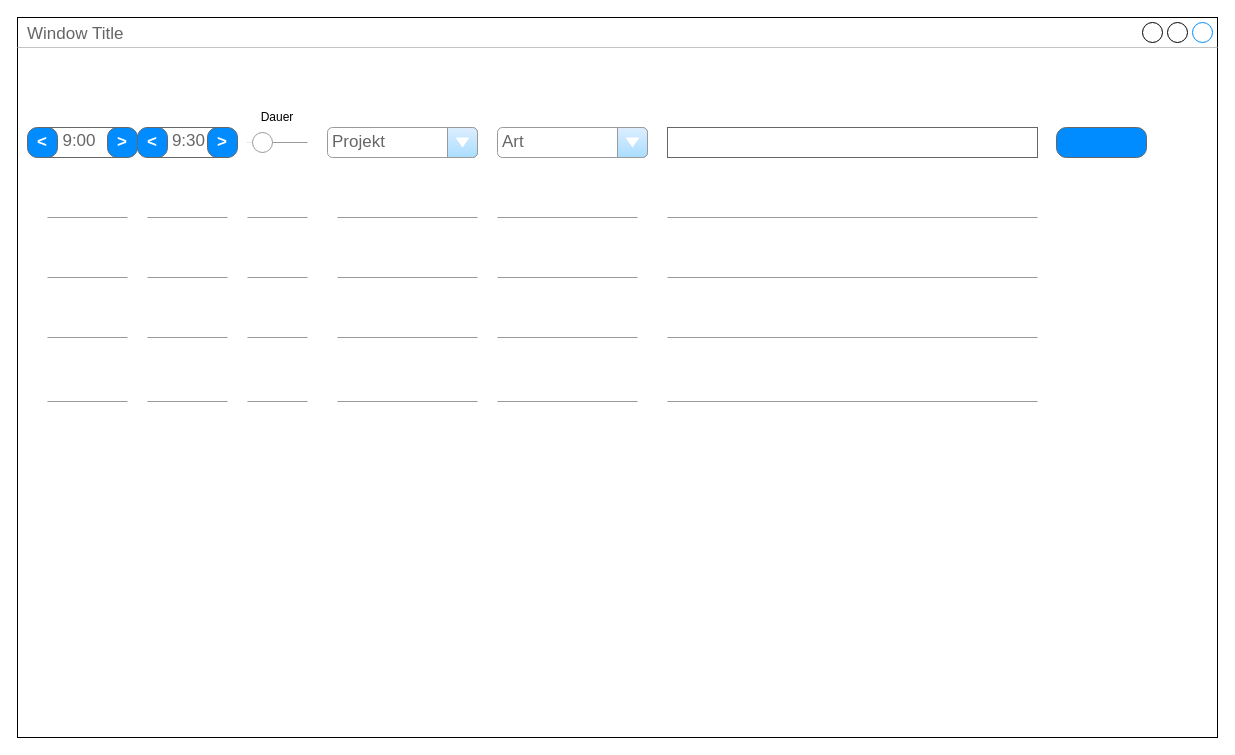
This 1235x755 diagram has some shape labels left out. The centre of each missing label's shape, as x and y in pixels:
"Eintragen" belongs at (x=1101, y=142).
"Tätigkeit" belongs at (x=852, y=142).
